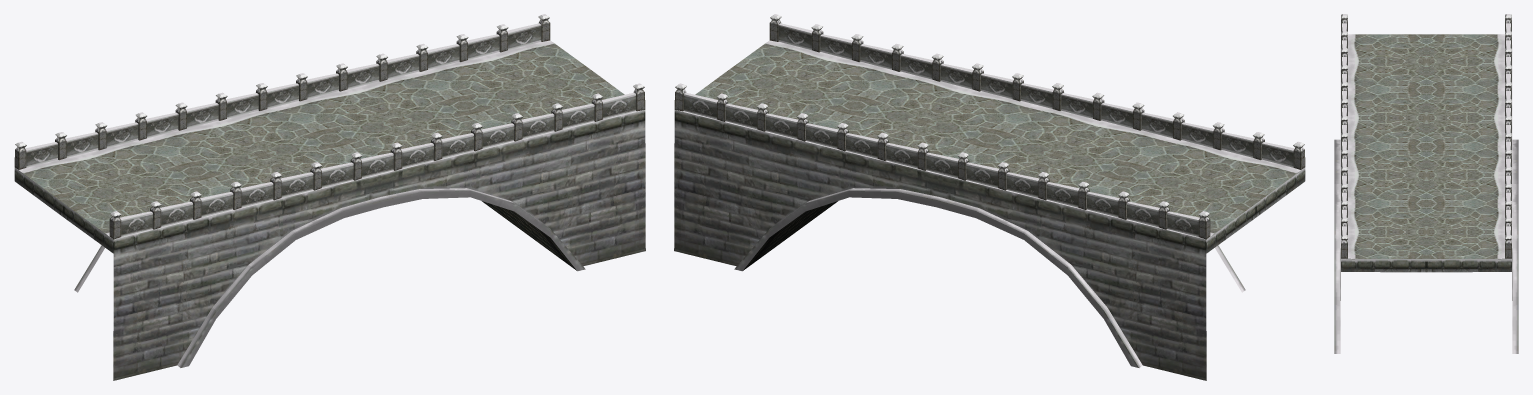
Rendered from nsm-022-10m-bridge.glb.
3 renders of one model, left to right at view 1: azimuth 30°, elevation 25°; view 2: azimuth 150°, elevation 25°; view 3: azimuth 270°, elevation 25°, orthographic. The views are drawn at different scales.
Visible parts, largest first — view 1: 022; view 2: 022; view 3: 022.
Part boxes in pixels (x1=…): 022: x1=14, y1=14, x2=645, y2=380; 022: x1=674, y1=14, x2=1305, y2=380; 022: x1=1334, y1=14, x2=1518, y2=353.
Size of the model in its own units: 39.46 by 11.76 by 13.69.
Materials: 1 (1 with a texture image).
